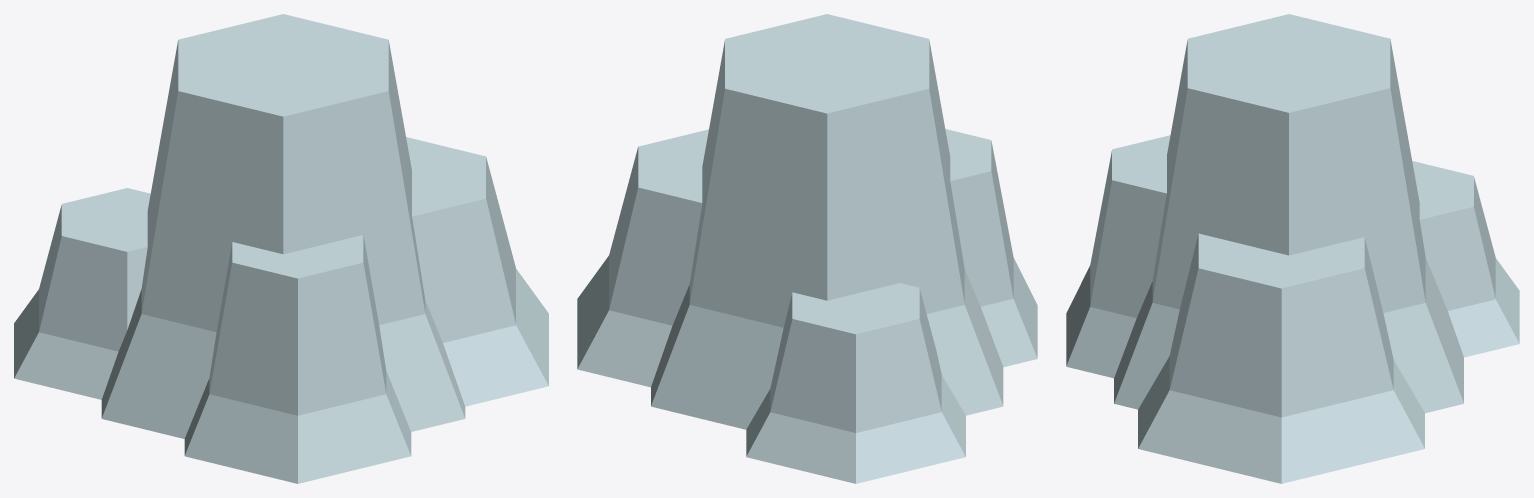
Rendered from rocksTall.glb.
3 renders of one model, left to right at view 1: azimuth 30°, elevation 25°; view 2: azimuth 150°, elevation 25°; view 3: azimuth 270°, elevation 25°, orthographic. The views are drawn at different scales.
Parts seen in each view (by area): view 1: rocksTall; view 2: rocksTall; view 3: rocksTall.
Boxes of the visible parts, bbox=[...] form: rocksTall: bbox=[14, 14, 548, 483]; rocksTall: bbox=[577, 14, 1037, 483]; rocksTall: bbox=[1066, 14, 1519, 483].
Size of the model in its own units: 0.9342 by 0.59 by 0.8148.
